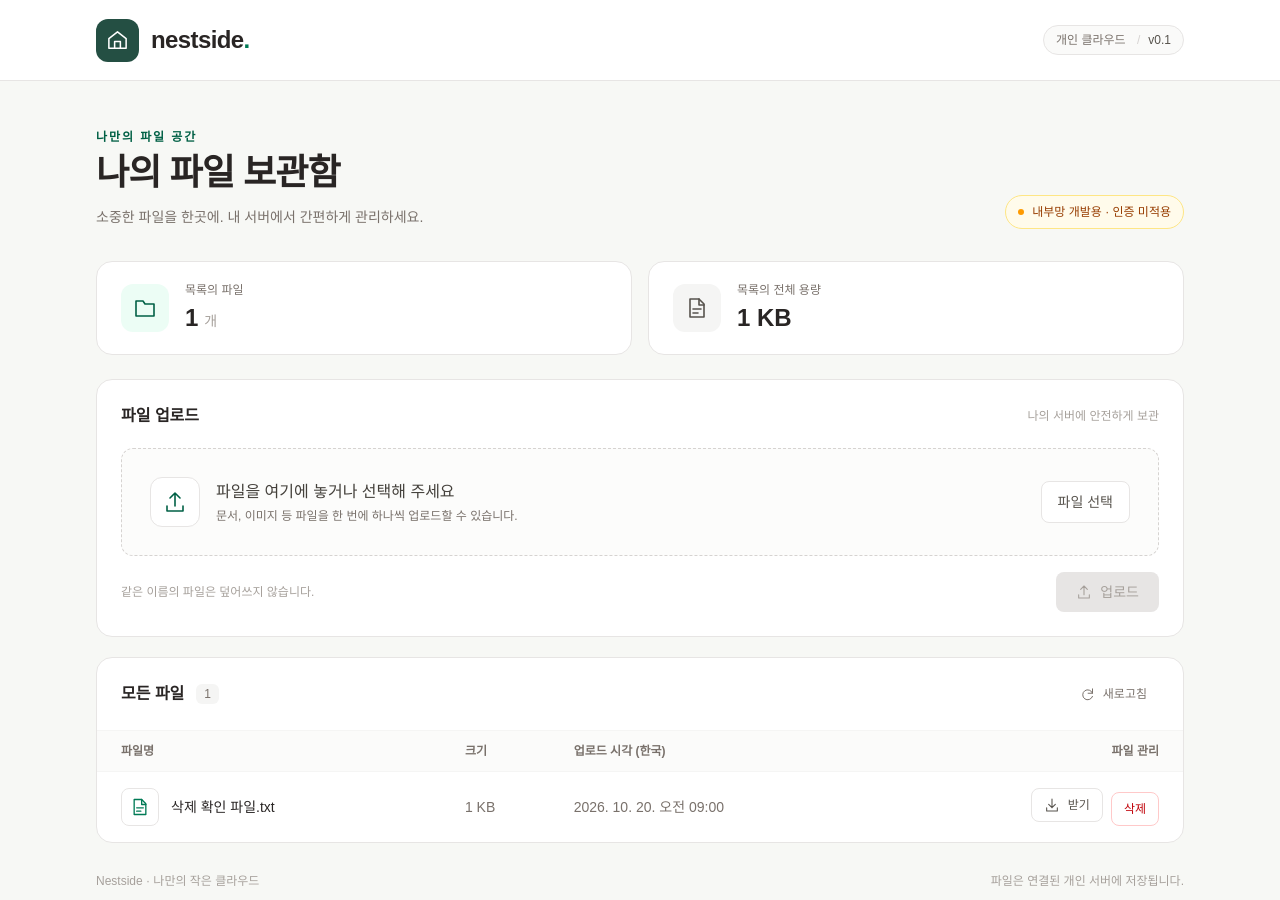
Test case: 취소하면 전송하지 않고 원래 버튼으로 초점을 돌린다
The image size is (1280, 900).
Click the button "삭제".
click(1135, 809)  # box [1111,792,1159,826]
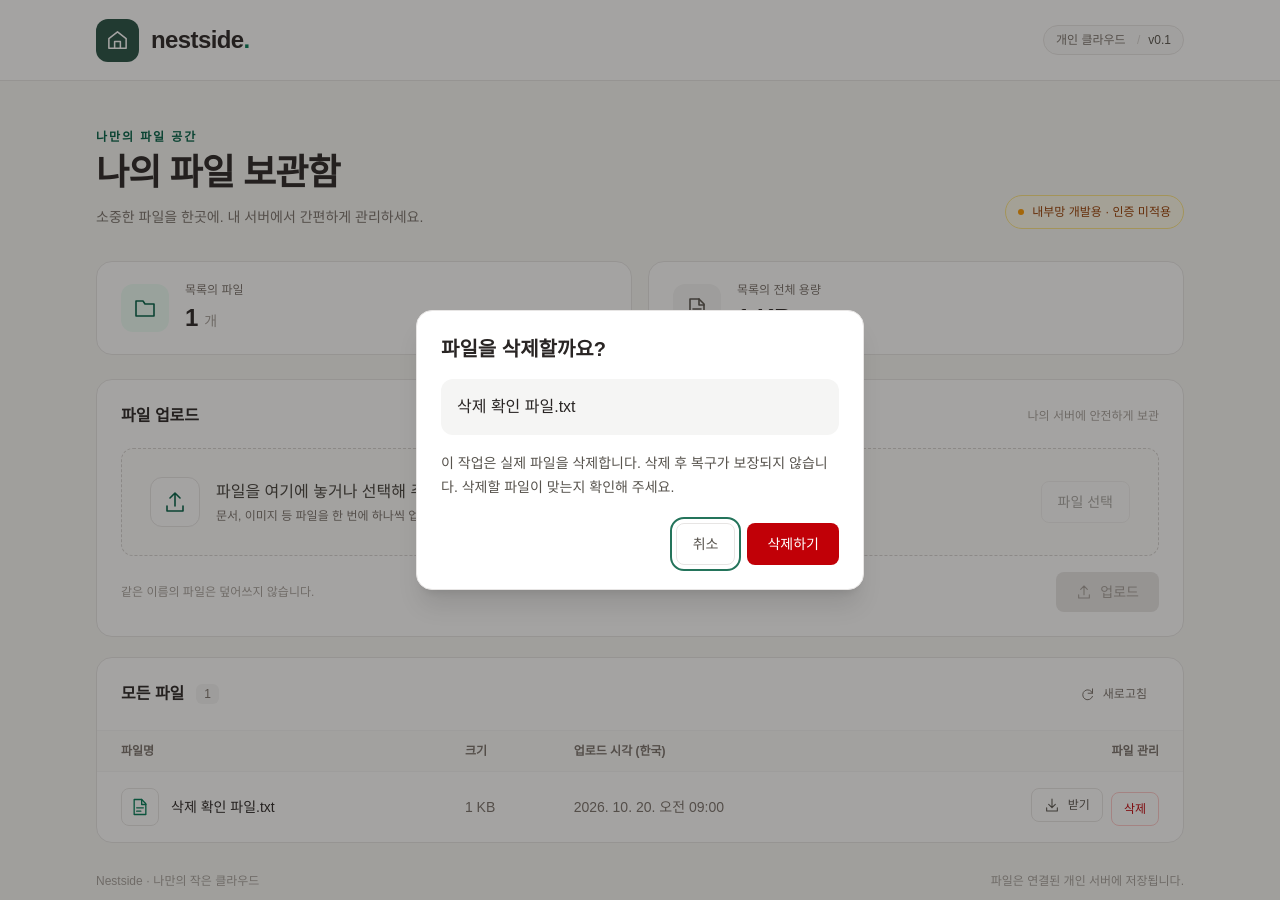
Click the button "취소".
click(706, 544)  # box [676,523,736,565]
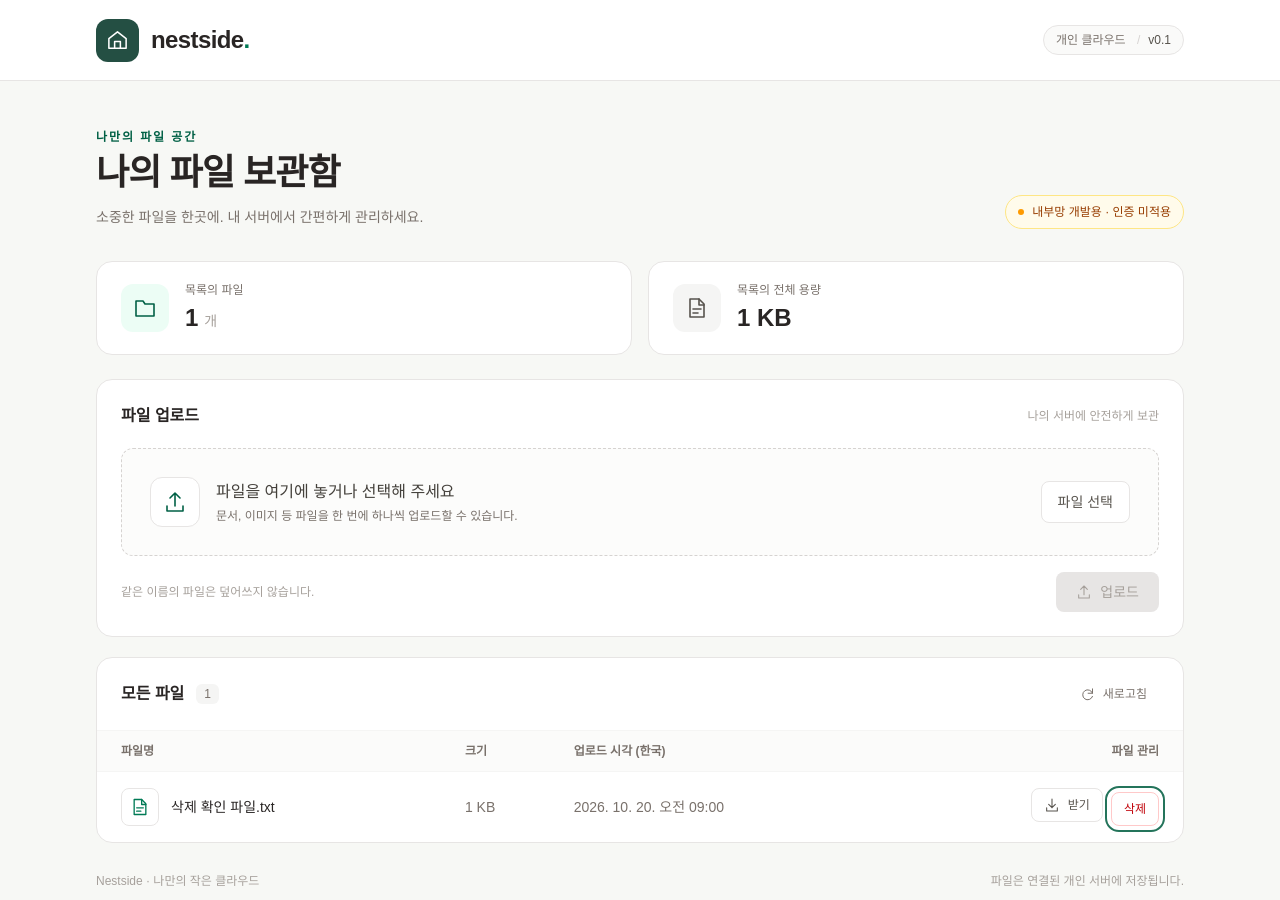
Now the dialog is gone
